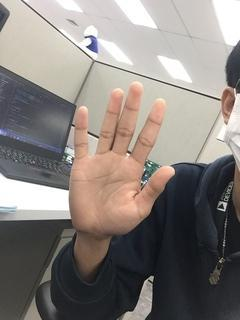hand: (68, 80, 176, 237)
